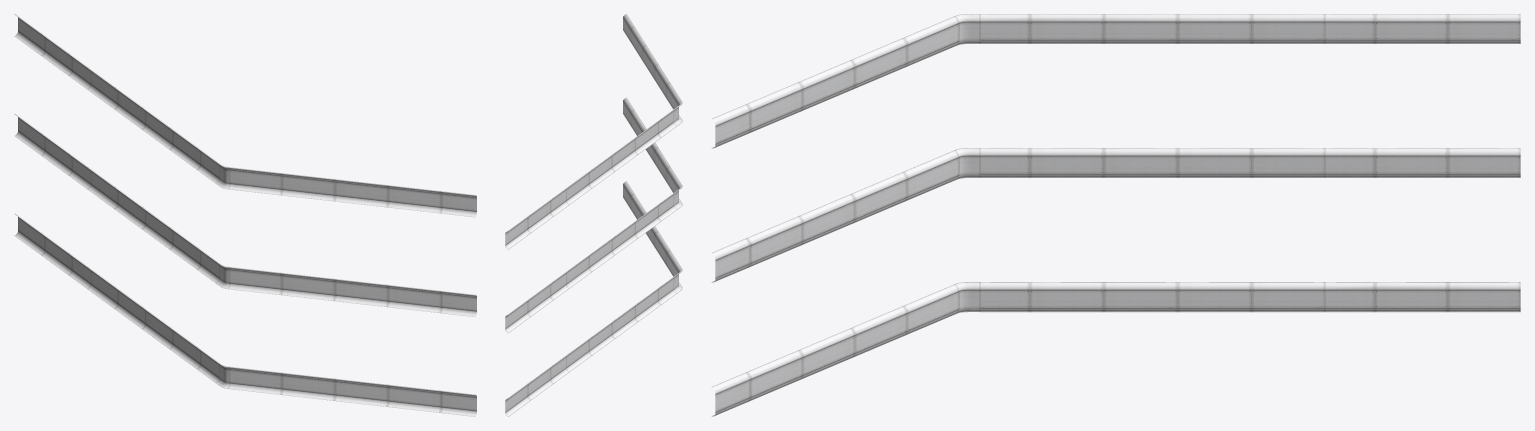
The model's file is RearFAC_Sup01.FBX.
The picture shows the model from 3 angles, left to right: view 1: azimuth 30°, elevation 25°; view 2: azimuth 150°, elevation 25°; view 3: azimuth 270°, elevation 25°; orthographic projection. The views are drawn at different scales.
Parts seen in each view (by area): view 1: RearFAC_Sup01; view 2: RearFAC_Sup01; view 3: RearFAC_Sup01.
Part boxes in pixels (<box>): RearFAC_Sup01: <box>14,14,476,416</box>; RearFAC_Sup01: <box>505,14,682,416</box>; RearFAC_Sup01: <box>711,14,1520,416</box>.
Size of the model in its own units: 10.26 by 13.3 by 32.85.
